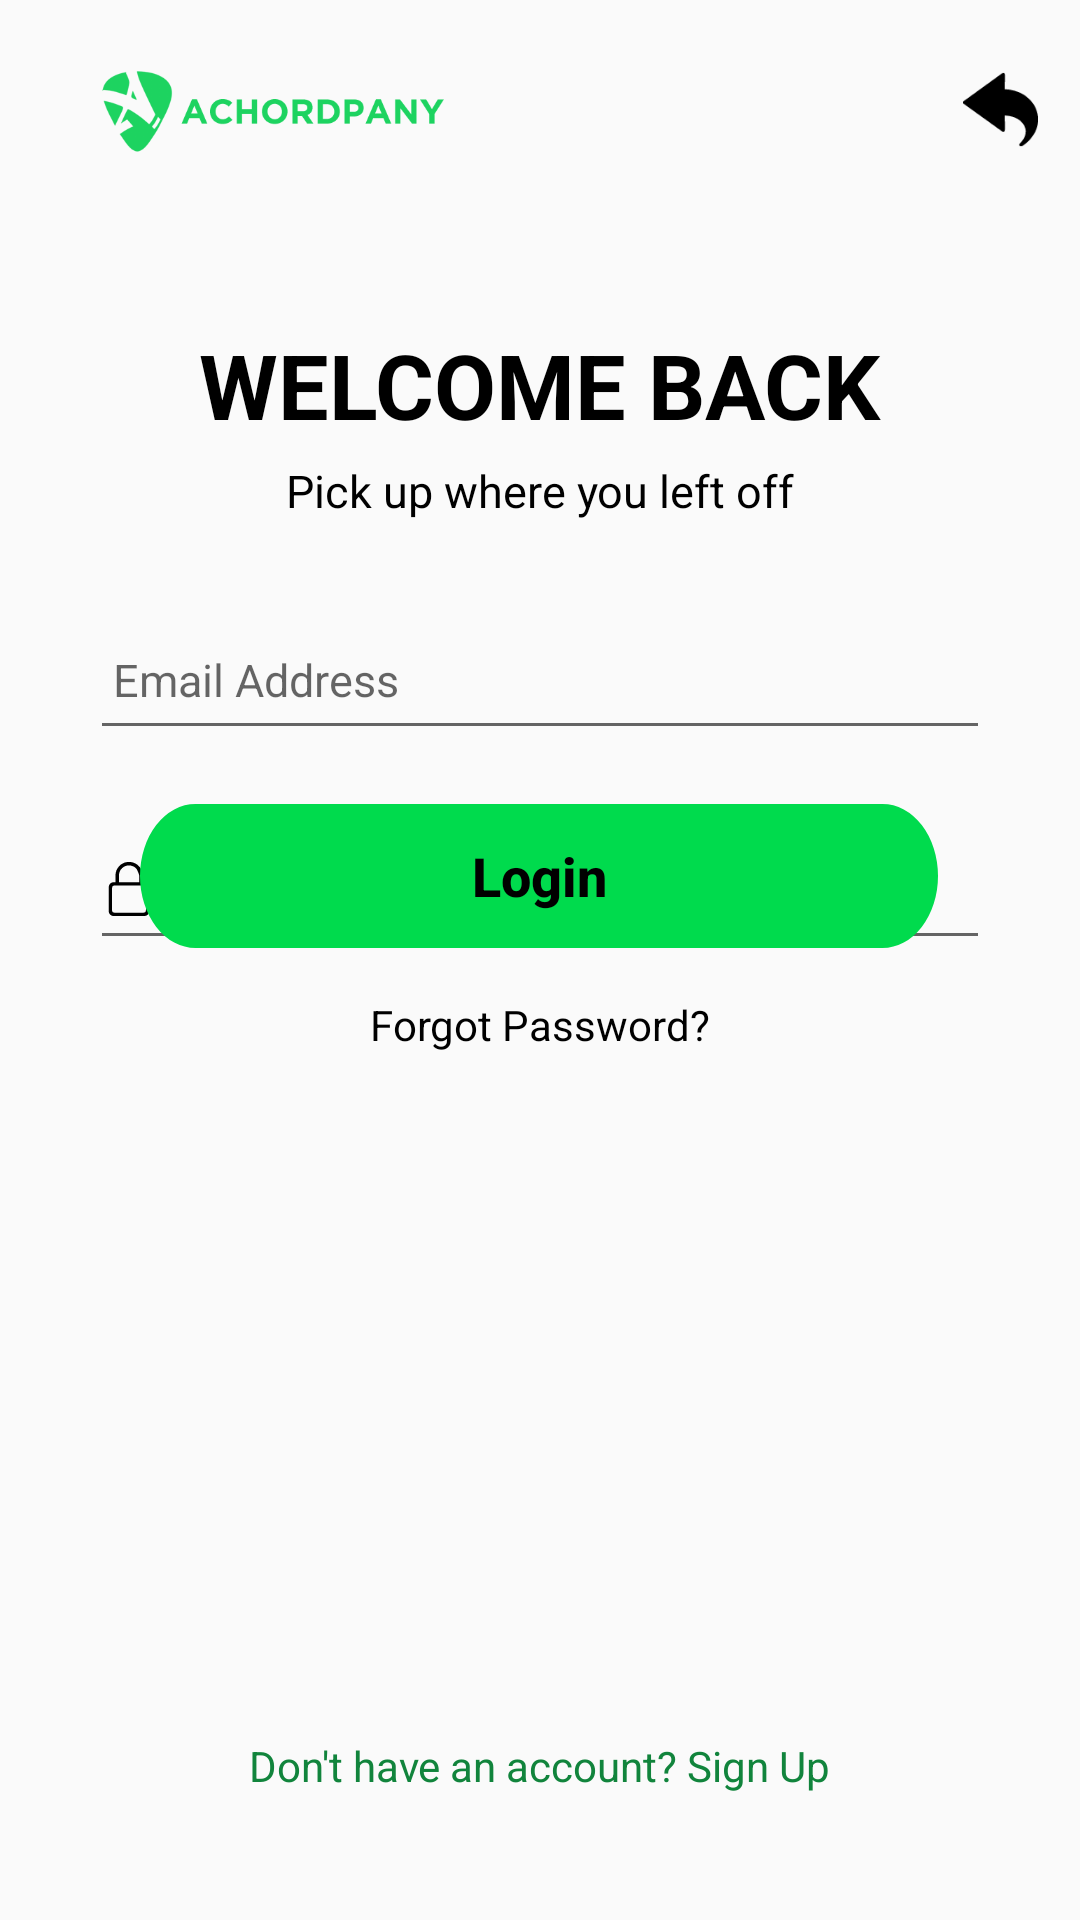

Where to tap for icons on this 1080w x 1920h app screen, as point (x, y):
Return: point (1000, 110)
